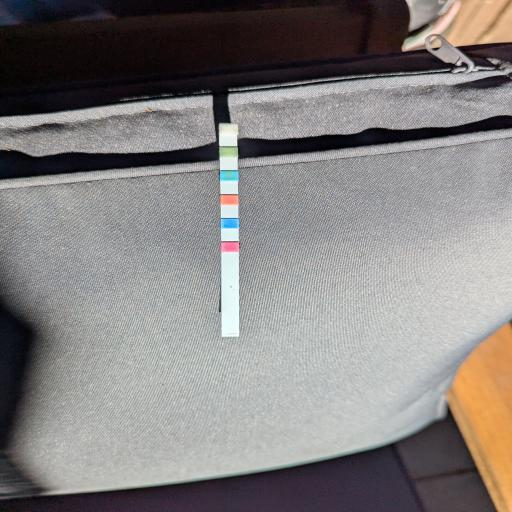strip: (219, 123, 240, 337)
